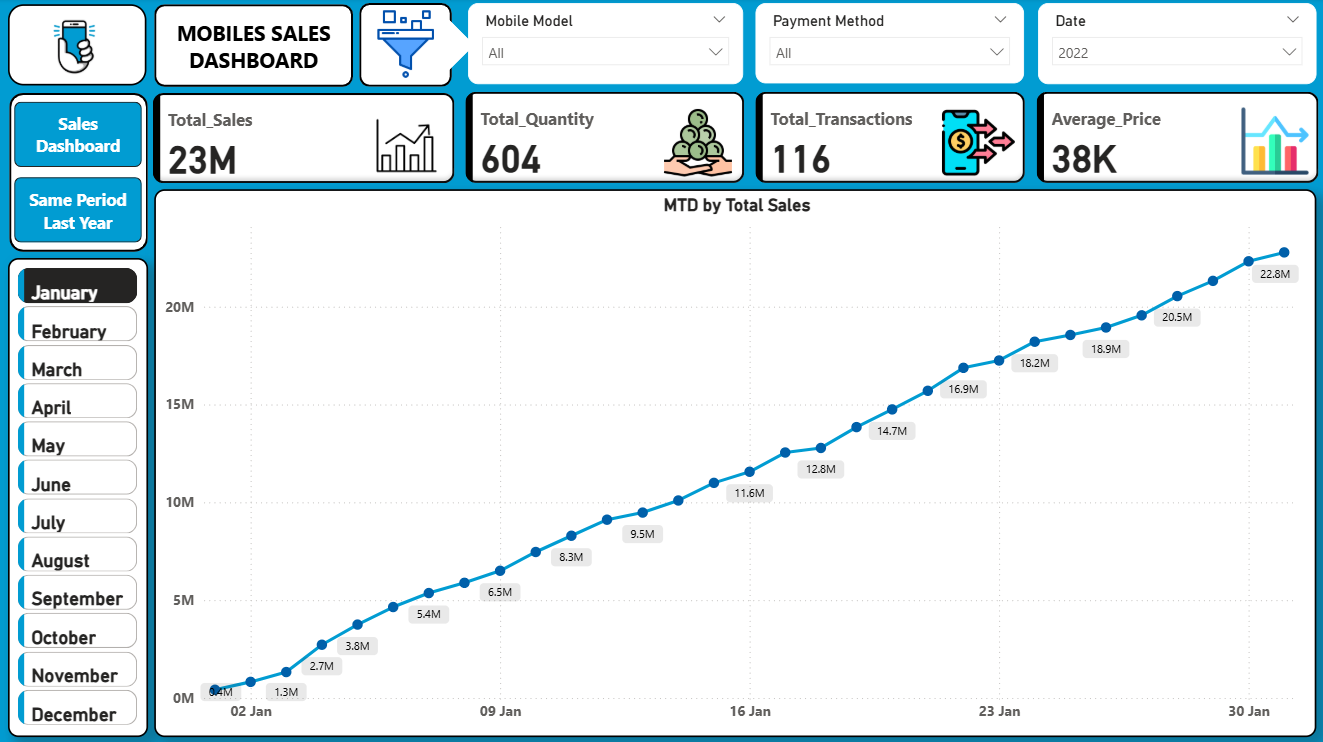

What the dashboard file says about the page in this screenshot:
{"tool":"powerbi","page":{"name":"MTD Report","canvas":[1280,720],"ordinal":1},"visuals":[{"type":"textbox","box":[9.7,6,133.9,78.4],"z":0},{"type":"advancedSlicerVisual","fields":{"Values":["Custom_calendar.Date.Variation.Date Hierarchy.Month"]},"box":[9.7,250.9,135.1,462.1],"z":1000},{"type":"cardVisual","fields":{"Data":["Sales.Total_Sales"]},"box":[144.8,86.9,301.6,97.7],"z":2000},{"type":"cardVisual","fields":{"Data":["Sales.Total_Quantity"]},"box":[446.4,85.7,279.9,98.9],"z":3000},{"type":"cardVisual","fields":{"Data":["Sales.Total_Transactions"]},"box":[726.3,85.7,270.2,98.9],"z":4000},{"type":"cardVisual","fields":{"Data":["Sales.Total_Average"]},"box":[997.7,85.7,282.3,98.9],"z":5000},{"type":"image","box":[24.1,8.4,98.9,77.2],"z":13000},{"type":"shape","box":[10.9,91.7,133.9,153.2],"z":14000},{"type":"shape","box":[150.8,6,191.8,79.6],"z":17000},{"type":"shape","box":[348.7,4.8,89.3,80.8],"z":18000},{"type":"image","box":[348.7,6,89.3,77.2],"z":19000},{"type":"shape","box":[400.5,20.5,59.1,49.5],"z":20000},{"type":"slicer","fields":{"Values":["Sales.Mobile Model"]},"box":[453.6,4.8,265.4,78.4],"z":21000},{"type":"slicer","fields":{"Values":["Sales.Payment Method"]},"box":[731.1,4.8,259.4,77.2],"z":22000},{"type":"slicer","fields":{"Values":["Custom_calendar.Date.Variation.Date Hierarchy.Year","Custom_calendar.Date.Variation.Date Hierarchy.Quarter","Custom_calendar.Date.Variation.Date Hierarchy.Month","Custom_calendar.Date.Variation.Date Hierarchy.Day"]},"box":[1003.8,4.8,269,78.4],"z":23000},{"type":"lineChart","title":"MTD by Total Sales","fields":{"Y":["Sales.MTD"],"Category":["Custom_calendar.Date.Variation.Date Hierarchy.Year","Custom_calendar.Date.Variation.Date Hierarchy.Quarter","Custom_calendar.Date.Variation.Date Hierarchy.Month","Custom_calendar.Date.Variation.Date Hierarchy.Day"]},"box":[150.8,184.6,1122,528.4],"z":23001},{"type":"pageNavigator","box":[15.7,100.1,123.1,136.3],"z":23002}]}

Visuals, with their boxes in screenshot pixels (x1, y1, x2, y2), scaled from the page's 1280x720 canvas onto the 1323x742 screenshot:
textbox: [10,6,148,87]
advancedSlicerVisual - Custom_calendar.Date.Variation.Date Hierarchy.Month: [10,259,150,735]
cardVisual - Sales.Total_Sales: [150,90,461,190]
cardVisual - Sales.Total_Quantity: [461,88,751,190]
cardVisual - Sales.Total_Transactions: [751,88,1030,190]
cardVisual - Sales.Total_Average: [1031,88,1322,190]
image: [25,9,127,88]
shape: [11,95,150,252]
shape: [156,6,354,88]
shape: [360,5,453,88]
image: [360,6,453,86]
shape: [414,21,475,72]
slicer - Sales.Mobile Model: [469,5,743,86]
slicer - Sales.Payment Method: [756,5,1024,85]
slicer - Custom_calendar.Date.Variation.Date Hierarchy.Year x Custom_calendar.Date.Variation.Date Hierarchy.Quarter: [1038,5,1316,86]
"MTD by Total Sales" lineChart: [156,190,1316,735]
pageNavigator: [16,103,143,244]
